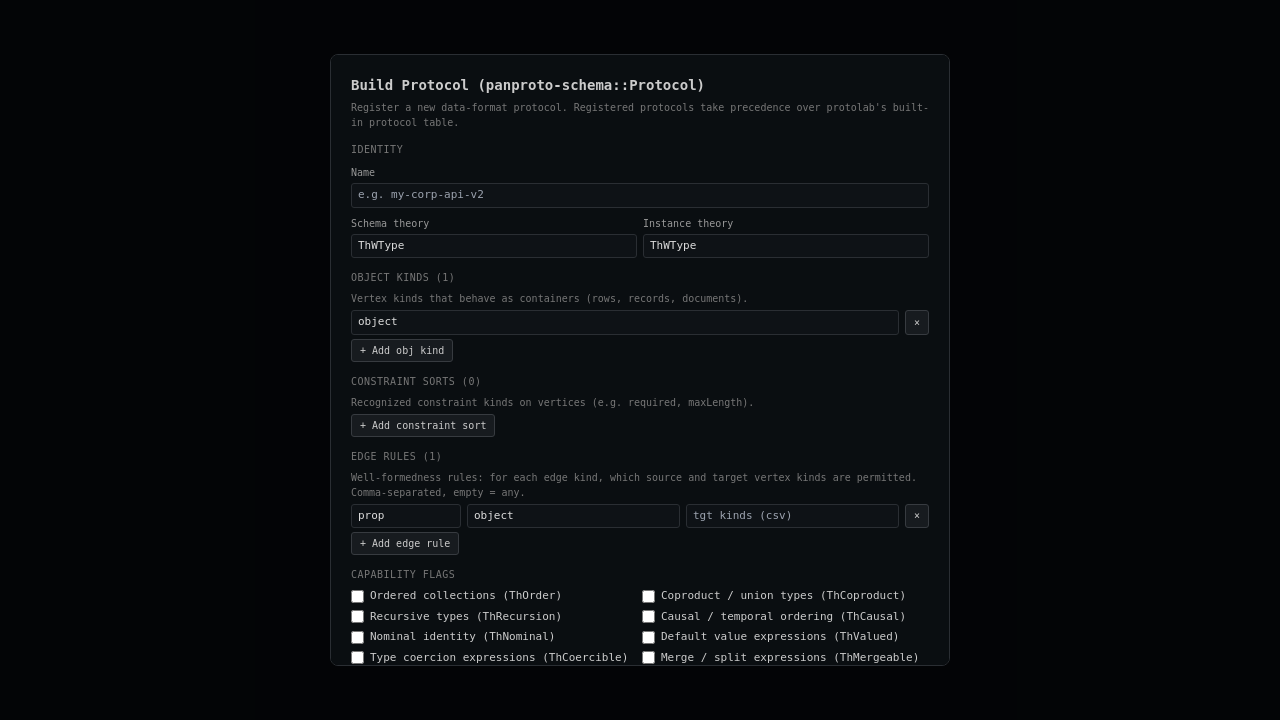
it: ProtocolEditor › add constraint sort / remove constraint sort
Expected: the text "Constraint sorts (0)" is shown, [351,376,481,386]
Click the button "+ Add constraint sort". click: (423, 425)
box: [351,414,495,436]
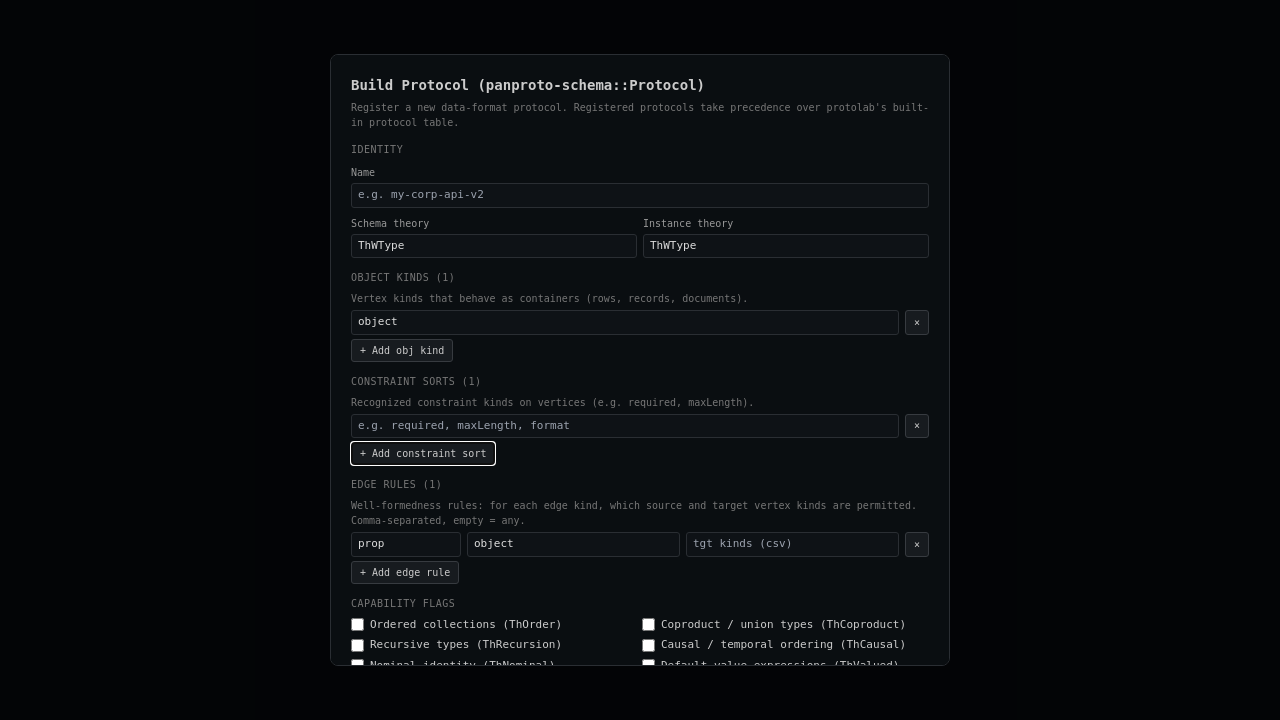
Expected: the text "Constraint sorts (1)" is shown, [351,376,481,386]
